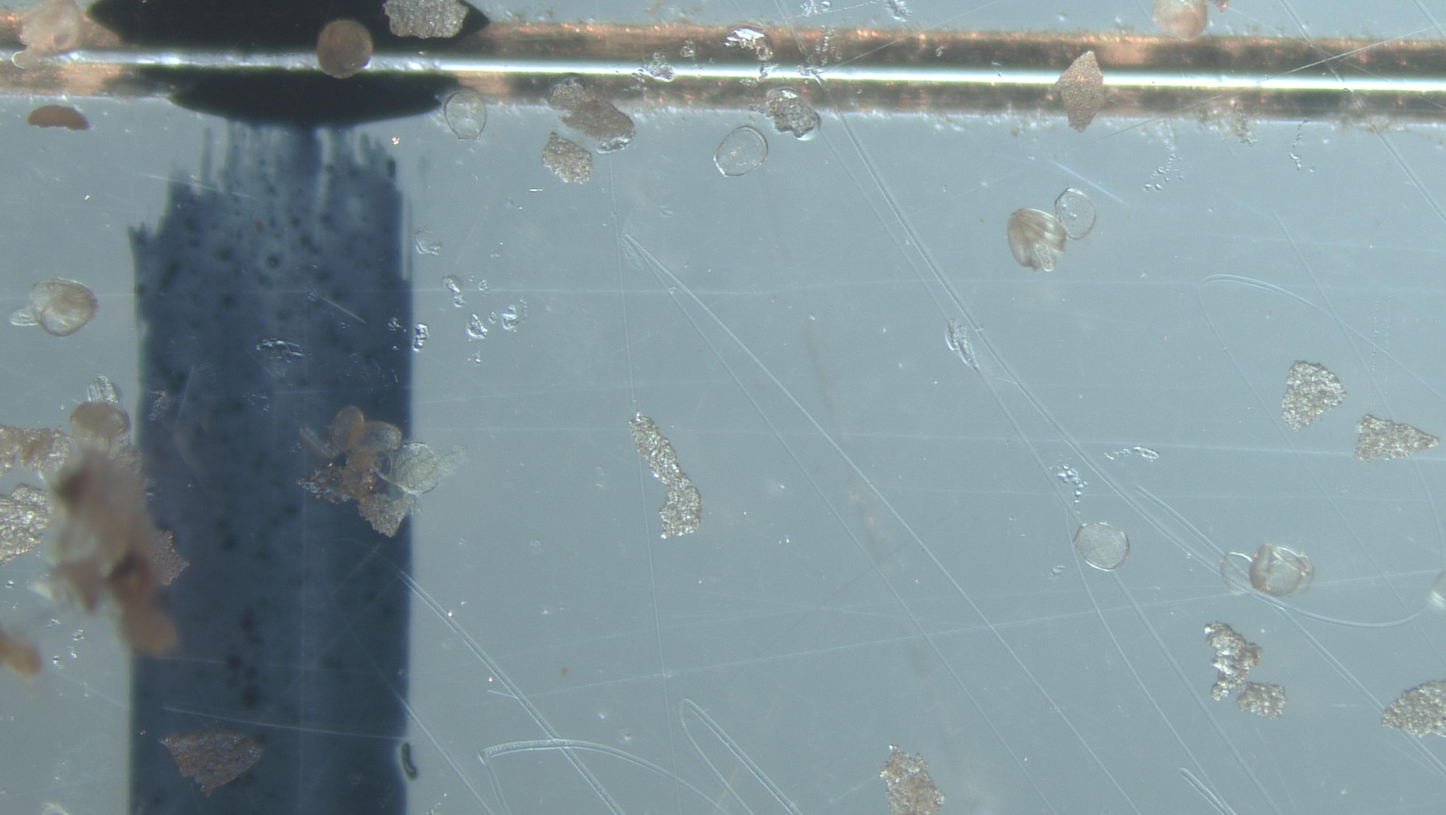dead: (386, 442, 456, 495), (1250, 544, 1303, 596), (715, 126, 768, 176), (1074, 523, 1129, 571), (443, 89, 487, 140), (1056, 188, 1096, 240), (901, 421, 946, 462), (329, 406, 365, 453), (1221, 553, 1253, 595), (1271, 545, 1313, 576)
live: (11, 279, 98, 337), (13, 0, 85, 69), (1007, 209, 1066, 271), (317, 19, 373, 78), (70, 402, 129, 445), (1152, 0, 1208, 40)
